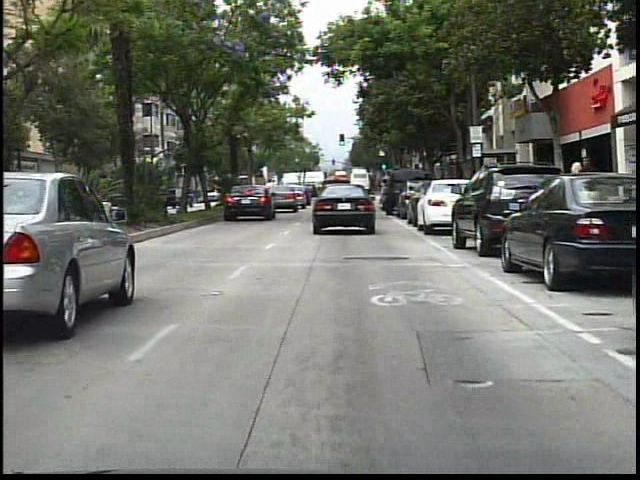person: (574, 154, 599, 223), (563, 155, 590, 218)
